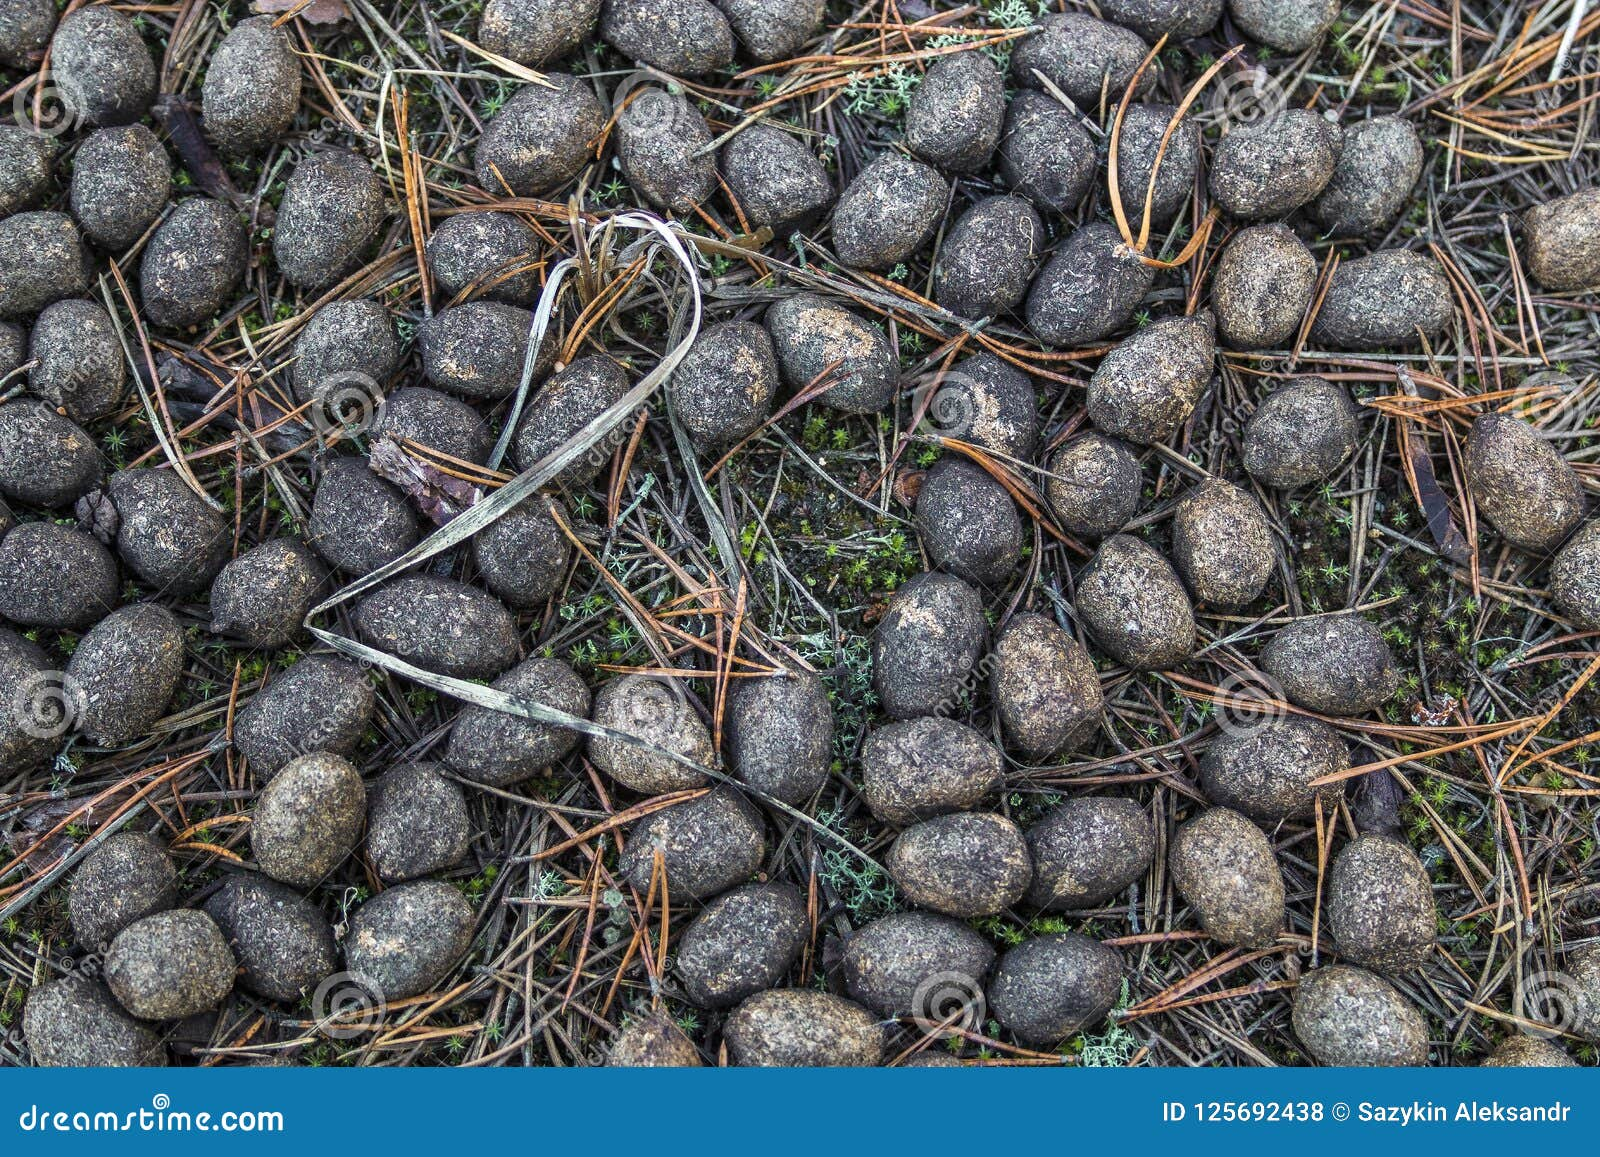Elk: (67, 89, 1311, 962)
